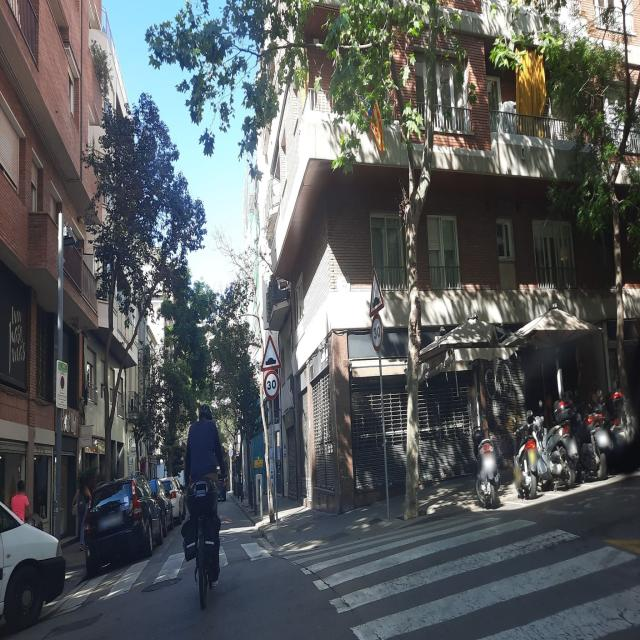forb_stopping: (229, 450, 233, 458)
